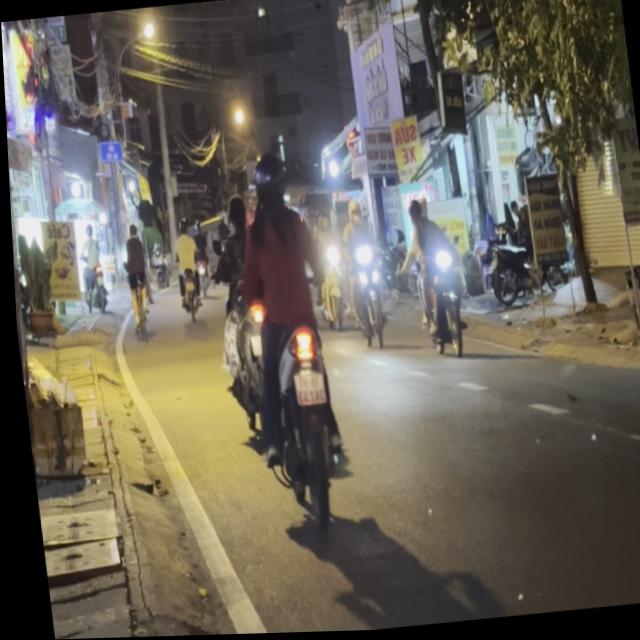helmet: (249, 151, 290, 210)
licenseplate: (204, 141, 353, 529)
nohelmet: (289, 369, 323, 406)
